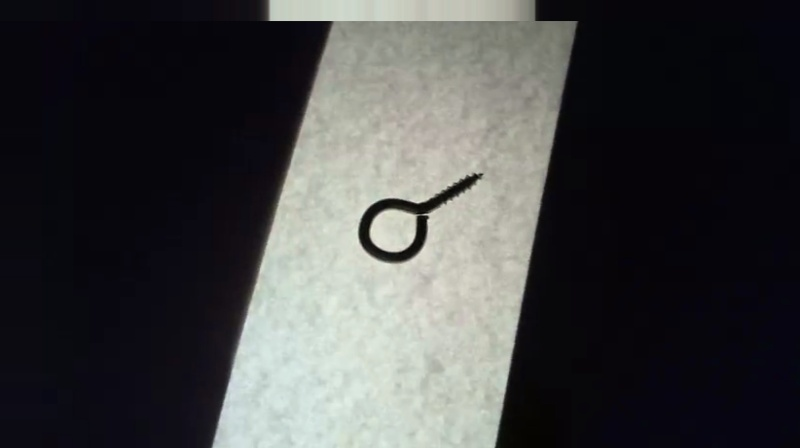O001: (355, 169, 487, 265)
